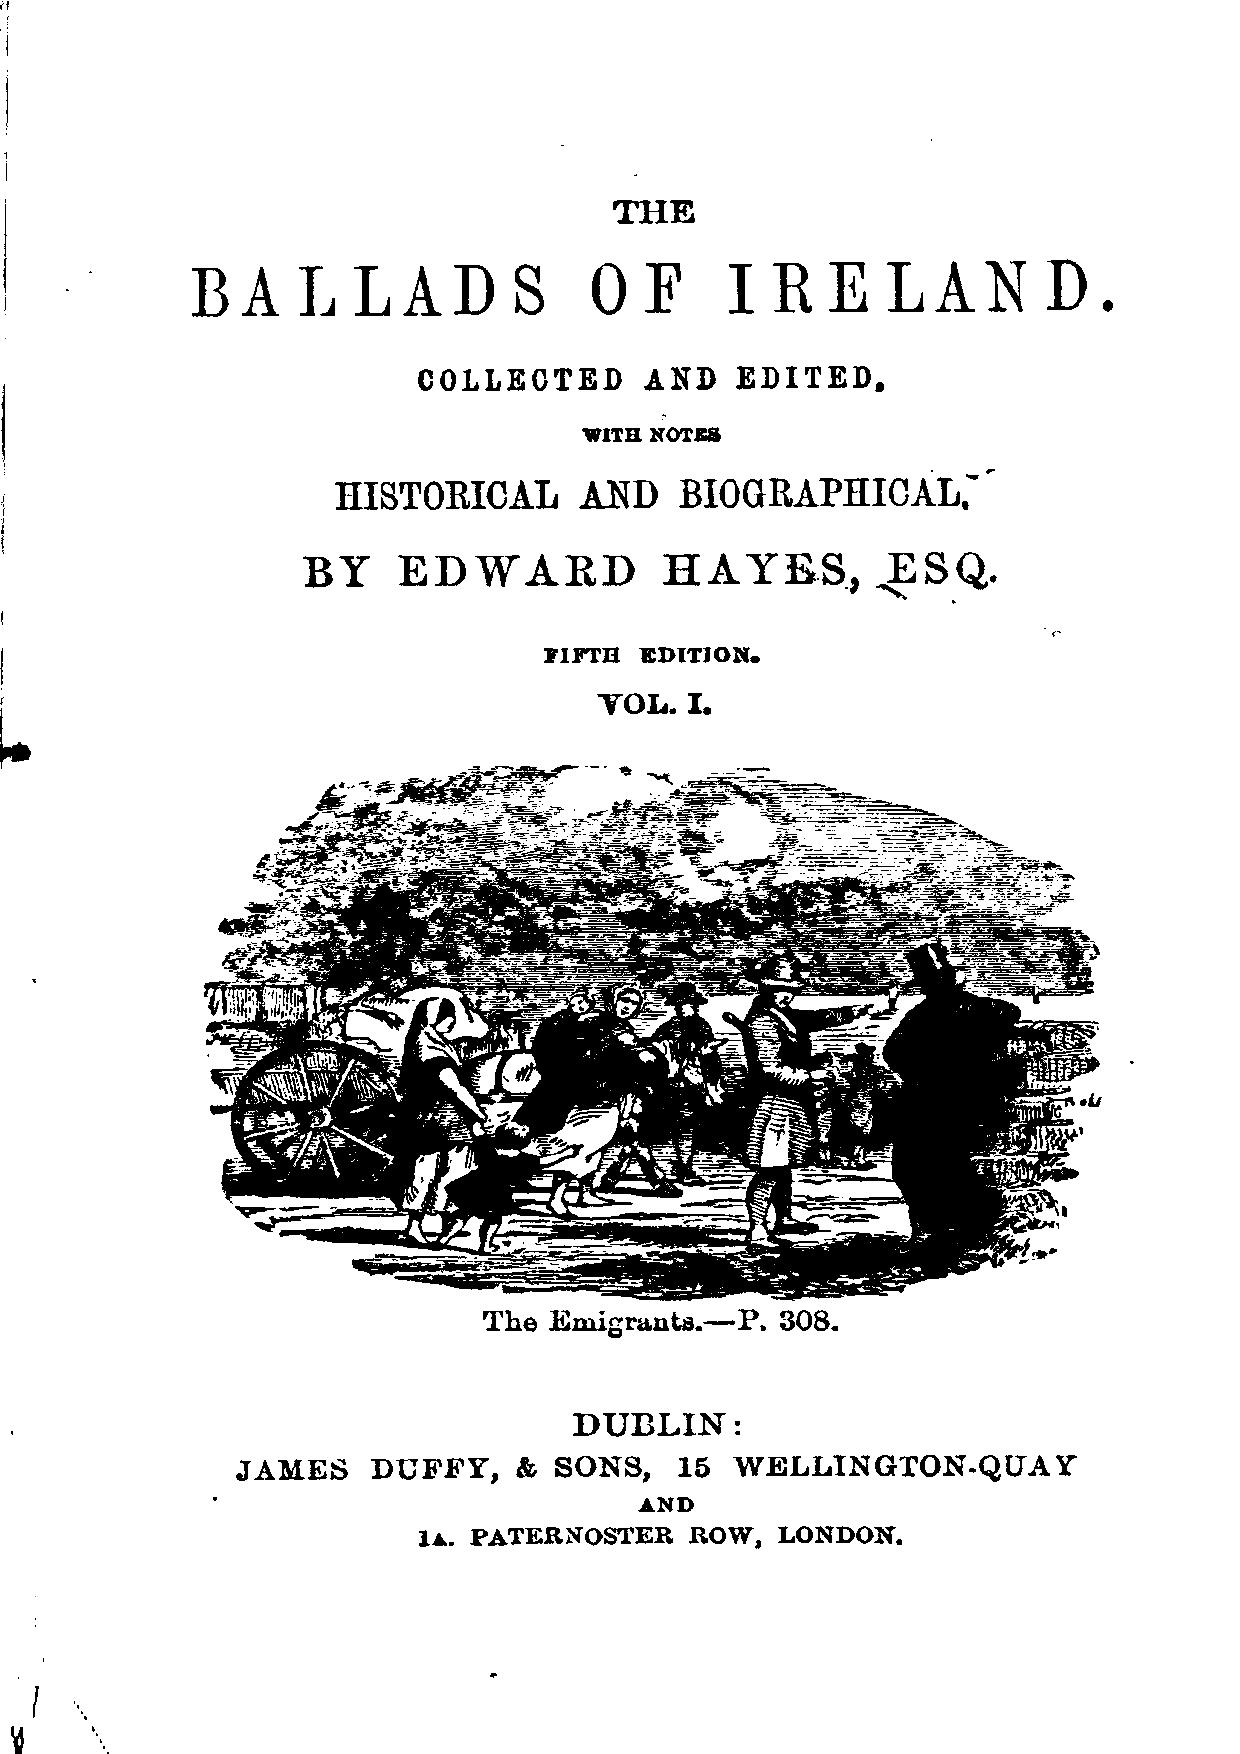author: (297, 550, 997, 590)
title: (187, 195, 1117, 317)
